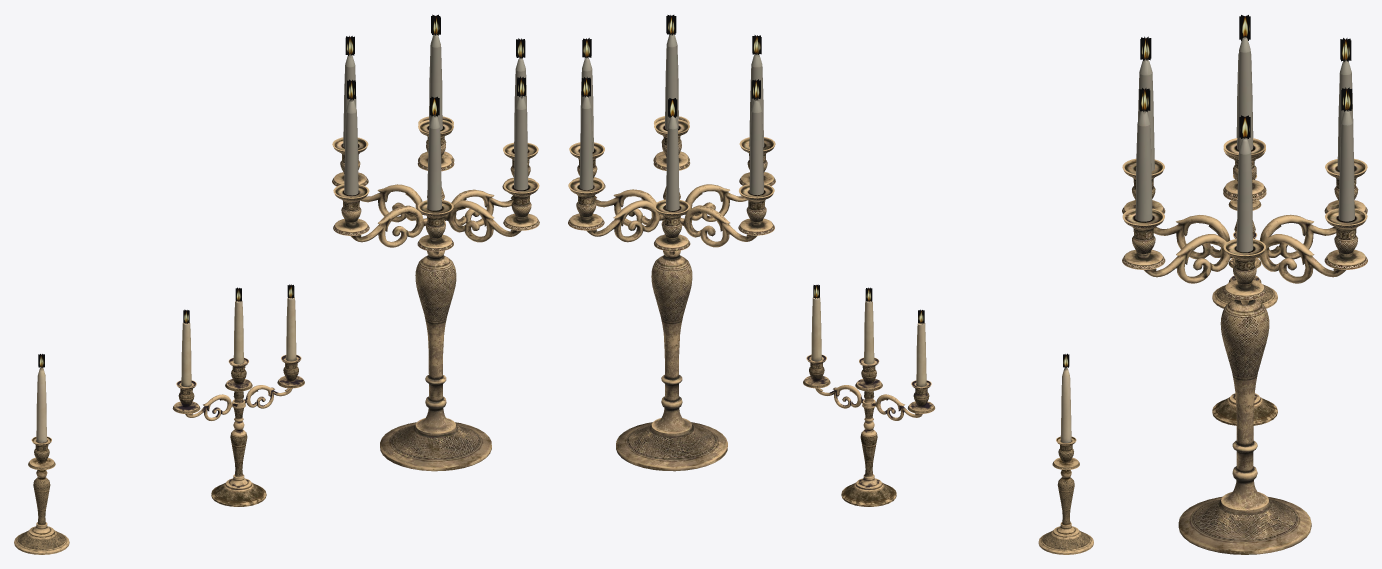
Rendered from candlesticks.glb.
3 renders of one model, left to right at view 1: azimuth 30°, elevation 25°; view 2: azimuth 150°, elevation 25°; view 3: azimuth 270°, elevation 25°, orthographic. The views are drawn at different scales.
Visible parts, largest first — view 1: brass_candleholder_03, brass_candleholder_02, brass_candleholder_01; view 2: brass_candleholder_03, brass_candleholder_02, brass_candleholder_01; view 3: brass_candleholder_03, brass_candleholder_02, brass_candleholder_01.
Part boxes in pixels (left/top/right/bottom): brass_candleholder_03: left=38, top=14, right=539, bottom=471; brass_candleholder_02: left=172, top=296, right=304, bottom=506; brass_candleholder_01: left=14, top=367, right=69, bottom=554; brass_candleholder_03: left=568, top=15, right=1069, bottom=471; brass_candleholder_02: left=803, top=297, right=935, bottom=506; brass_candleholder_01: left=1038, top=364, right=1093, bottom=554; brass_candleholder_03: left=1122, top=15, right=1367, bottom=554; brass_candleholder_02: left=1212, top=232, right=1277, bottom=425; brass_candleholder_01: left=1212, top=174, right=1277, bottom=308.
Size of the model in its own units: 1.05 by 0.8353 by 0.3646.
Materials: 5 (5 with a texture image).
